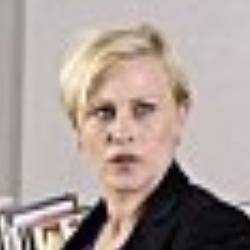face: (50, 15, 209, 211)
